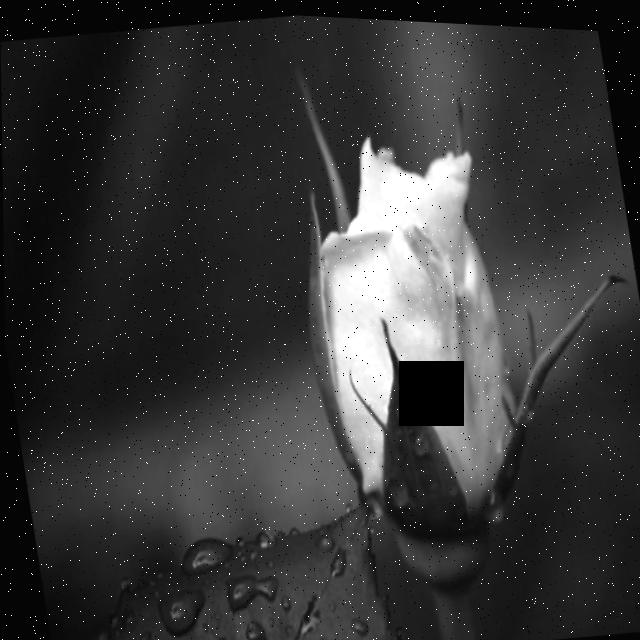rose: (243, 75, 605, 614)
